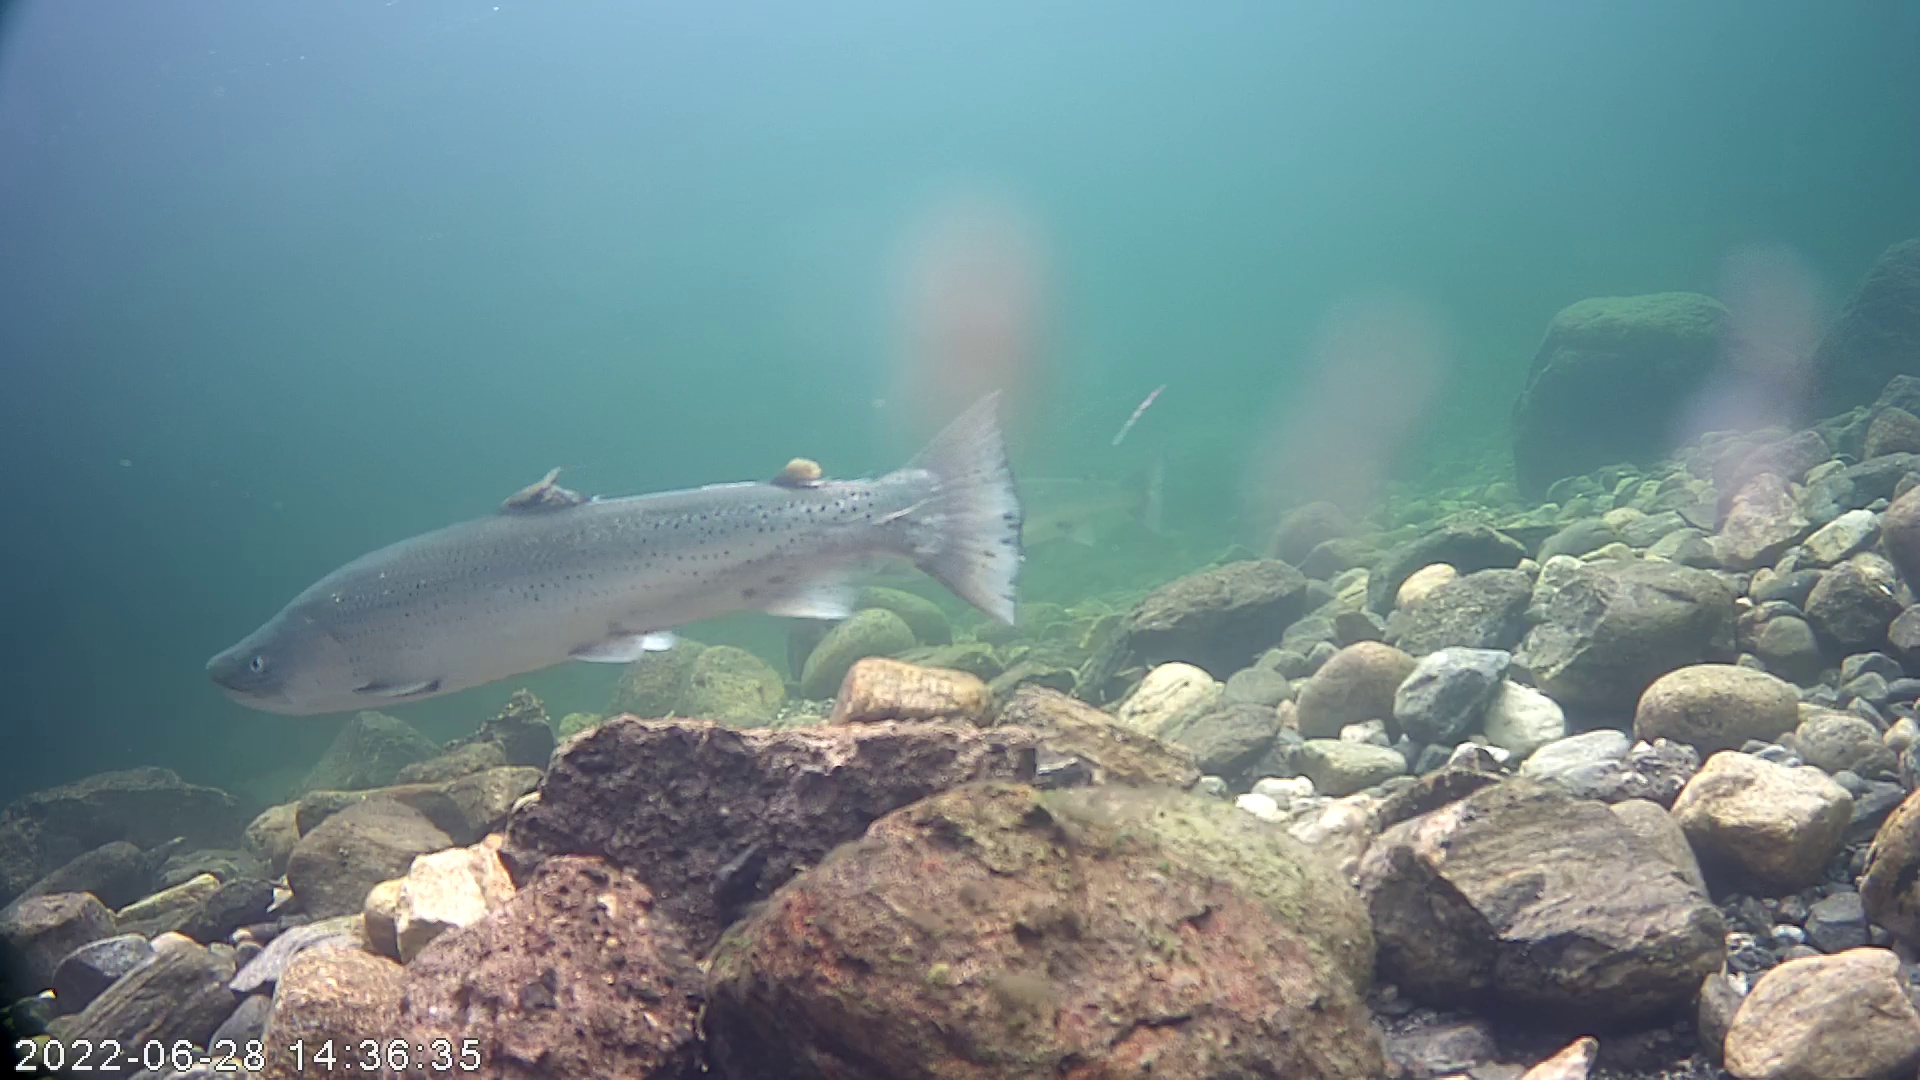salmon: (200, 315, 1048, 728)
